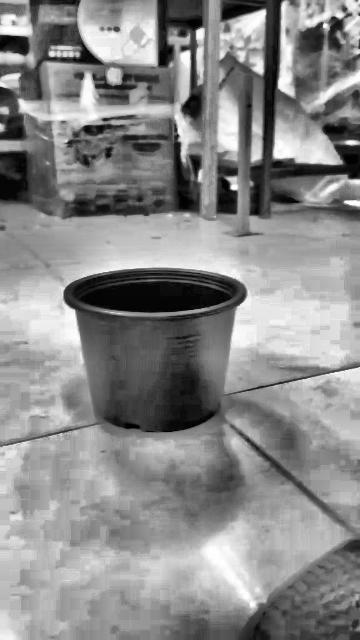pot: (64, 268, 245, 432)
